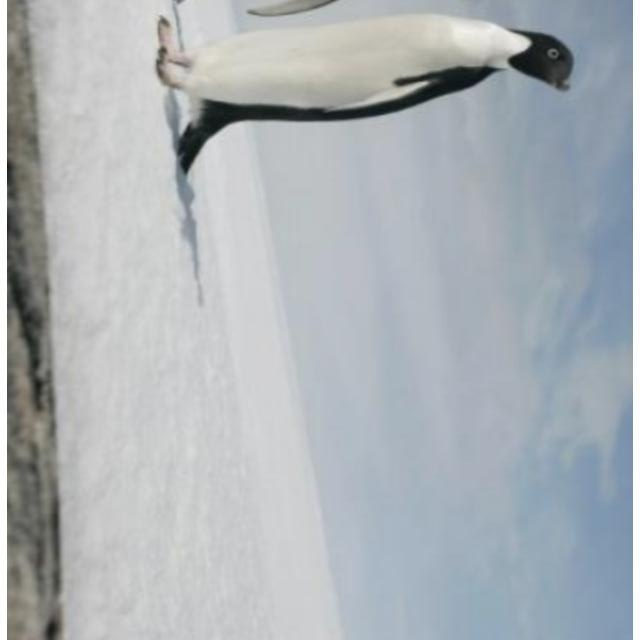penguin: (157, 13, 575, 176)
